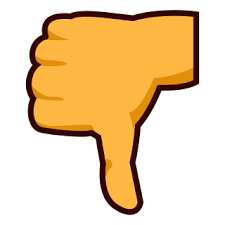thumbs_up: (154, 98, 196, 166), (11, 99, 51, 154)
